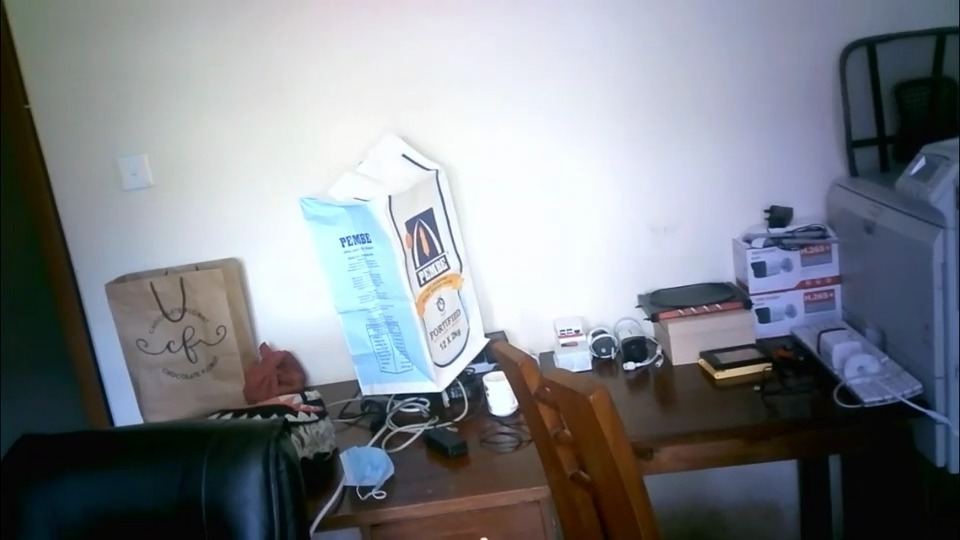wheat_flour_blue_label: (299, 131, 489, 388)
